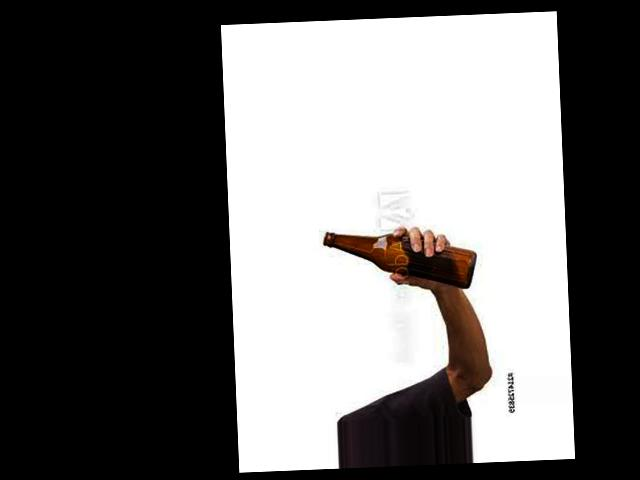beer: (322, 225, 478, 295)
